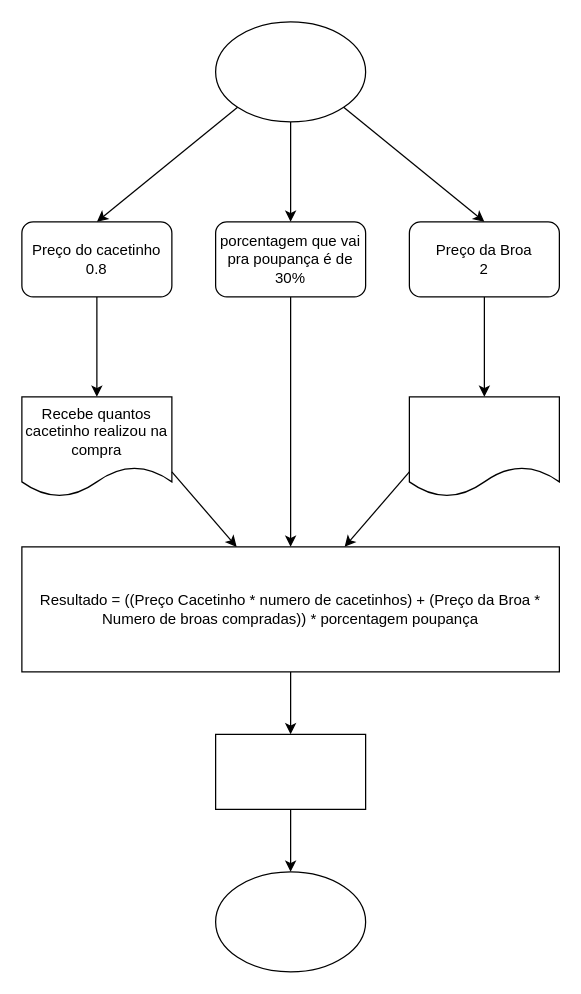
Image size: 581x994. Some labels were removed from this diagram. The shapes that lost their labels are listed below. From the top down, each one's centre as x and y in pixels, then its label:
At point (290, 71): "inicio".
At point (483, 446): "Recebe quantas Broas realizou na compra".
At point (290, 921): "FIM".
